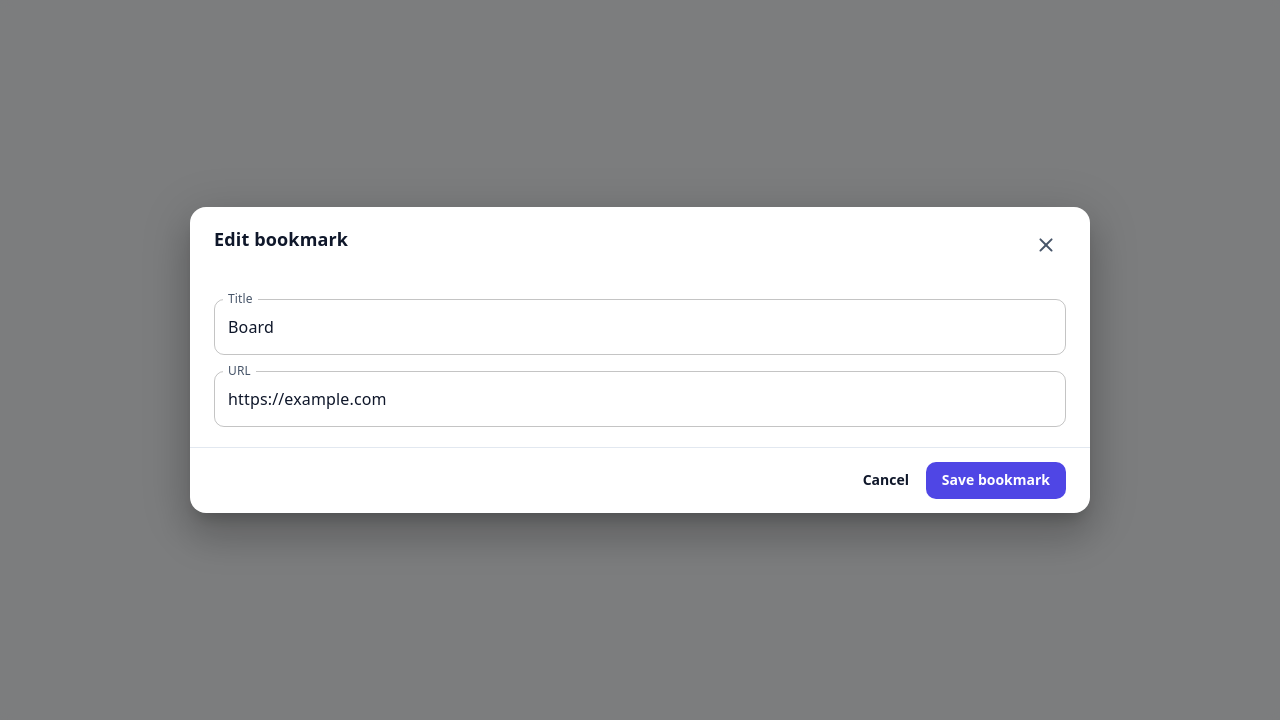
Test: bookmark save › a failed save shows a translated error and keeps the dialog open
Expected: the heading "Edit bookmark" is shown, [214,227,348,251]
Click the button "Save bookmark".
click(996, 481)  # box [926,462,1066,499]
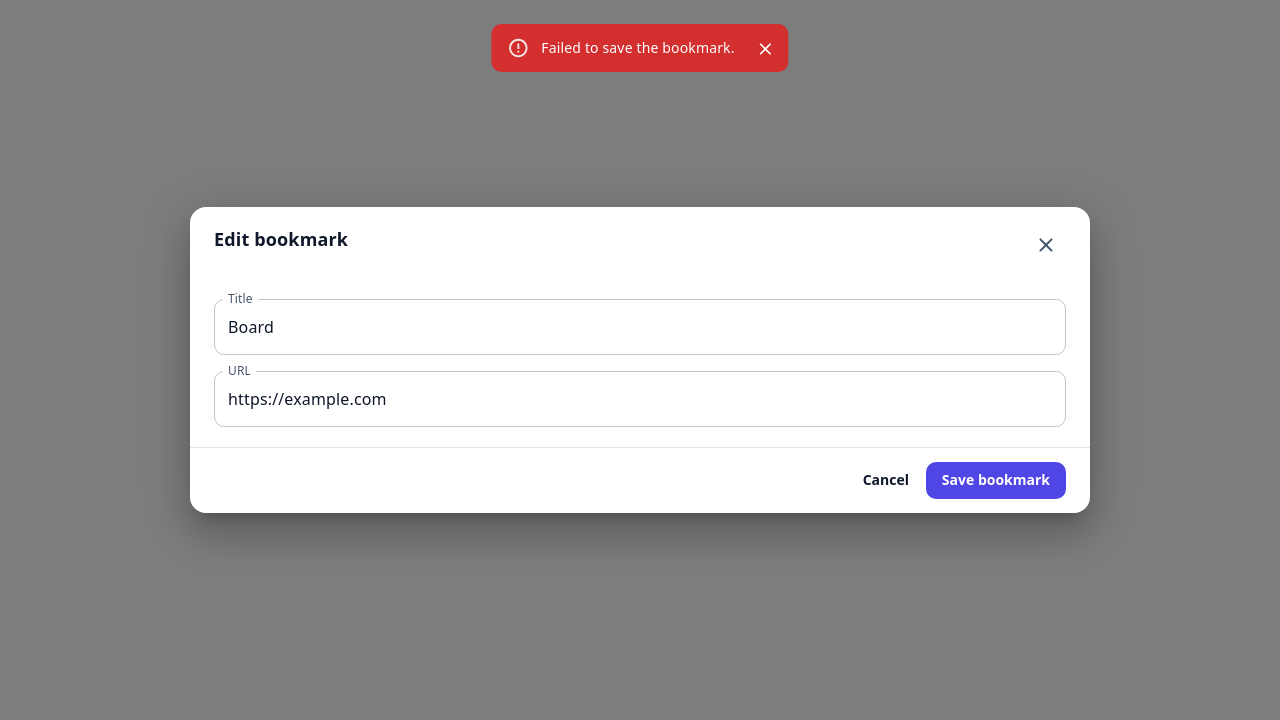
Now the text "Failed to save the bookmark." is shown, box [541,38,735,57]
